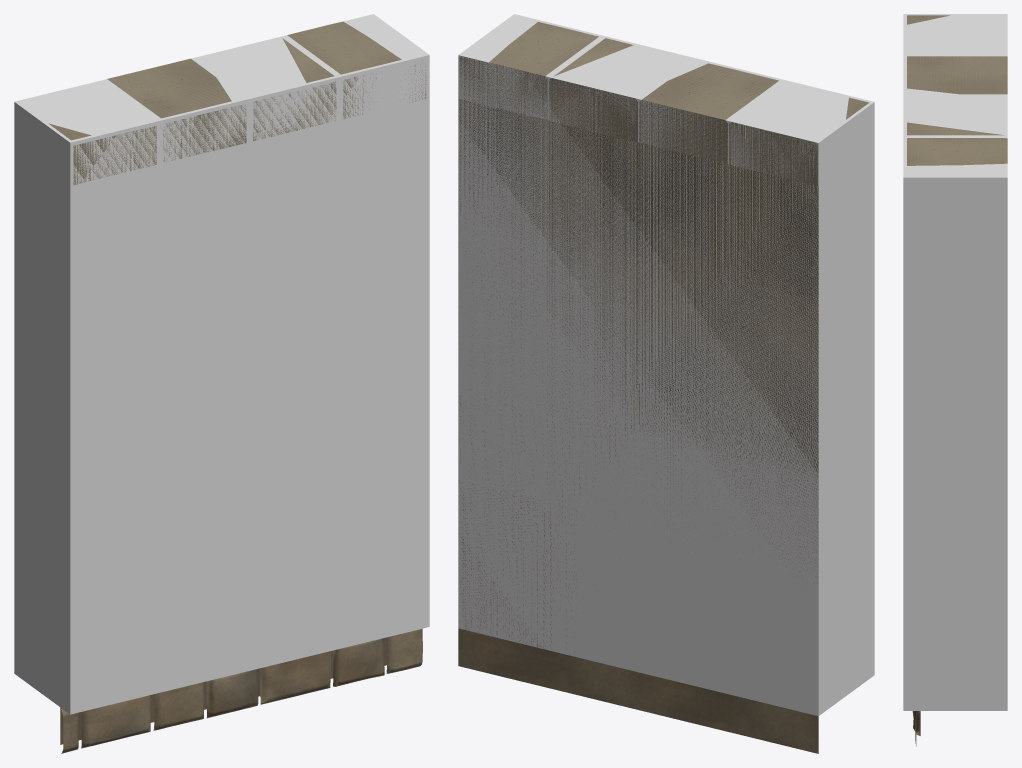
File: retaining_wall_straight.gltf
3 renders of one model, left to right at view 1: azimuth 30°, elevation 25°; view 2: azimuth 150°, elevation 25°; view 3: azimuth 270°, elevation 25°, orthographic. The views are drawn at different scales.
Parts seen in each view (by area): view 1: retaining_wall_straight_col, retaining_wall_straight_LOD0; view 2: retaining_wall_straight_col, retaining_wall_straight_LOD0; view 3: retaining_wall_straight_col, retaining_wall_straight_LOD0.
Boxes of the visible parts, x1,y1,x2,y2 form: retaining_wall_straight_col: (14, 14, 429, 714); retaining_wall_straight_LOD0: (48, 21, 426, 753); retaining_wall_straight_col: (458, 14, 874, 716); retaining_wall_straight_LOD0: (458, 22, 869, 753); retaining_wall_straight_col: (903, 14, 1007, 710); retaining_wall_straight_LOD0: (907, 15, 1007, 746).
Size of what is drawn, in the model's own units: 2 by 3.29 by 0.54.
3 materials, 3 textured.
